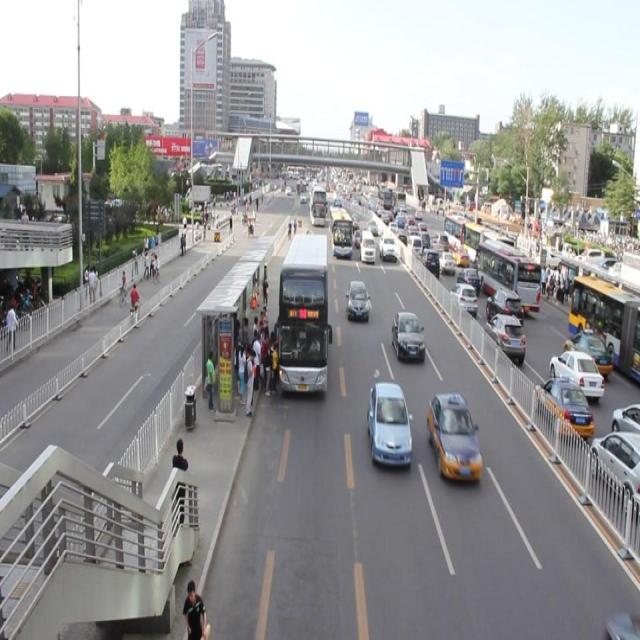car: (426, 390, 481, 482), (366, 381, 410, 468), (392, 310, 422, 358), (346, 277, 367, 318), (377, 234, 395, 258), (354, 229, 364, 245), (349, 213, 358, 229), (367, 219, 376, 234), (332, 194, 340, 208)
truck: (360, 230, 375, 262)
van: (280, 232, 328, 396), (329, 205, 350, 256), (310, 184, 326, 227)
